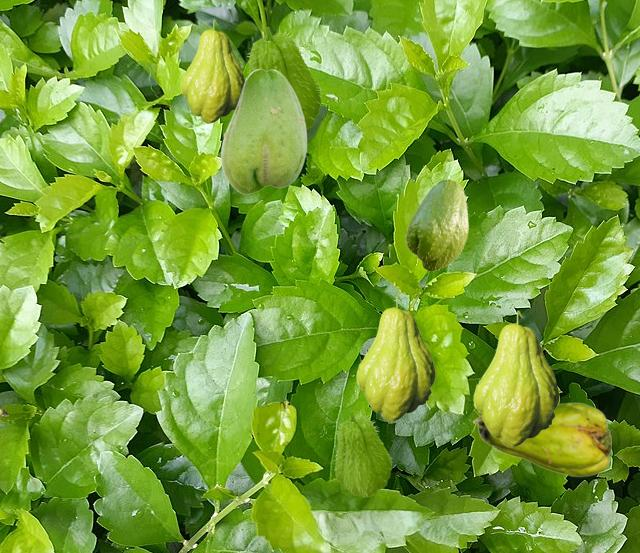sayote: (473, 310, 558, 446), (220, 68, 306, 193), (472, 402, 610, 476), (356, 295, 434, 420), (246, 25, 322, 129), (180, 19, 244, 122), (404, 179, 468, 271), (333, 410, 392, 496)
